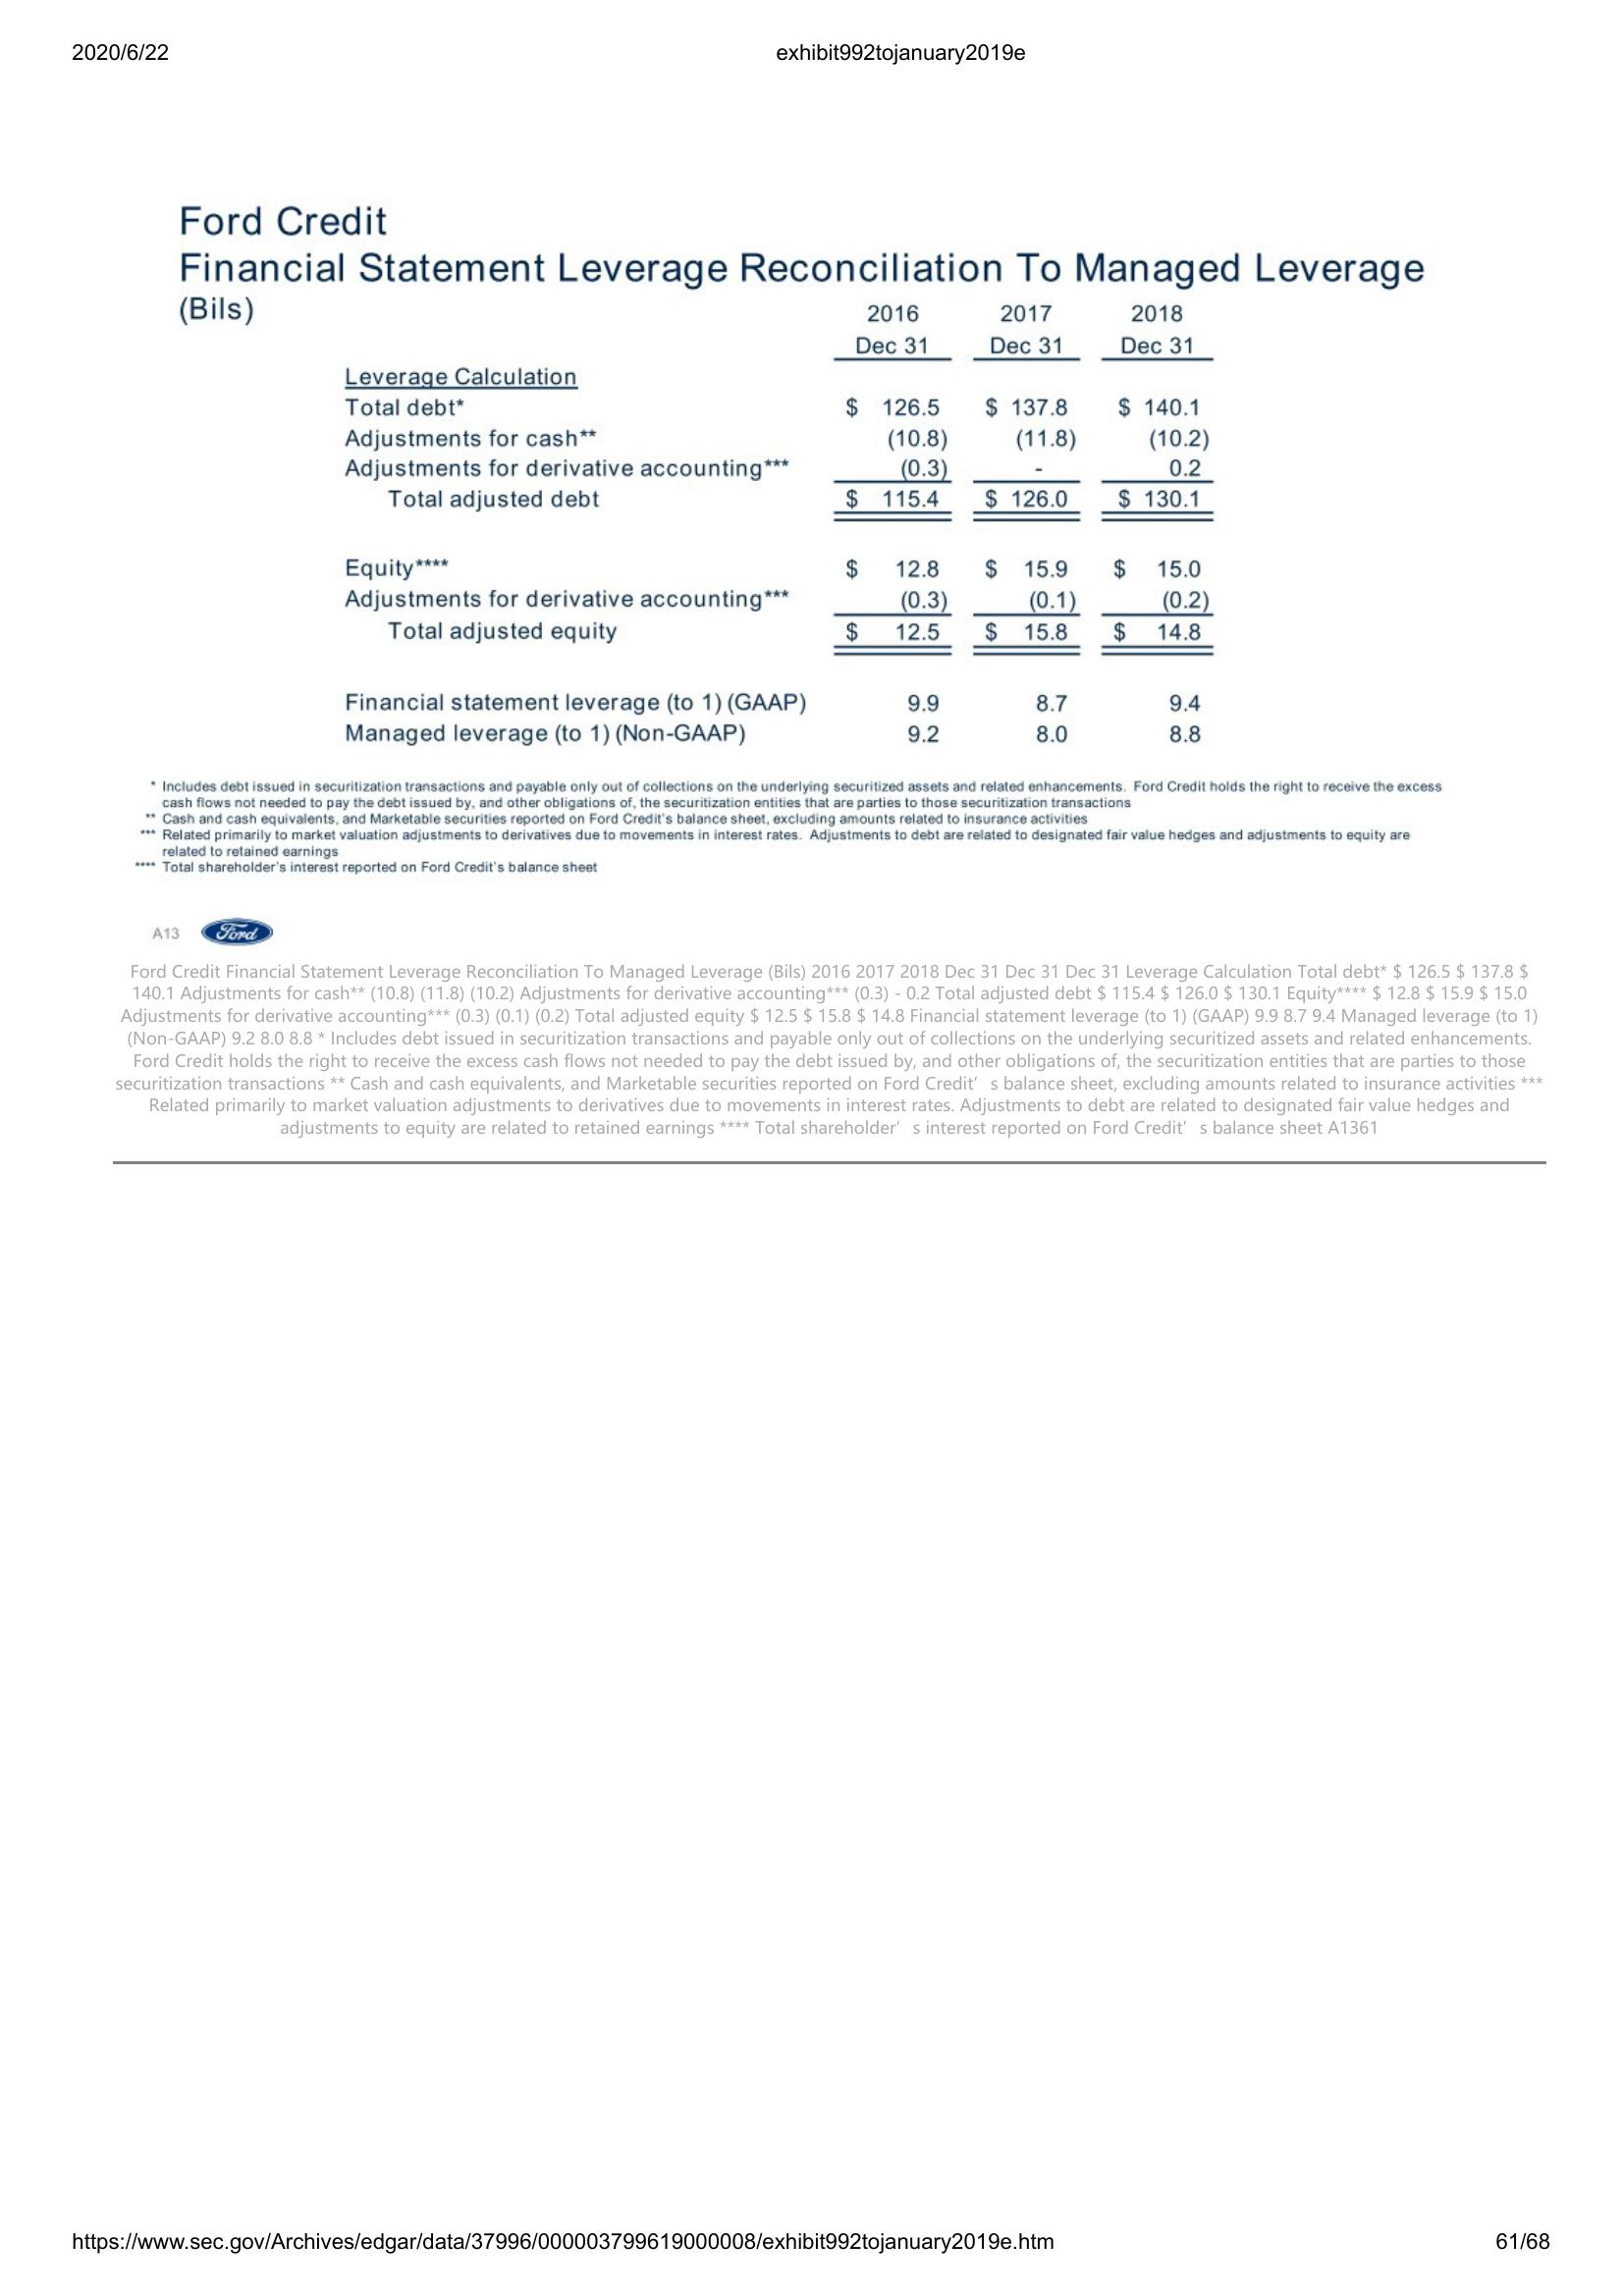table: (330, 295, 1212, 757)
